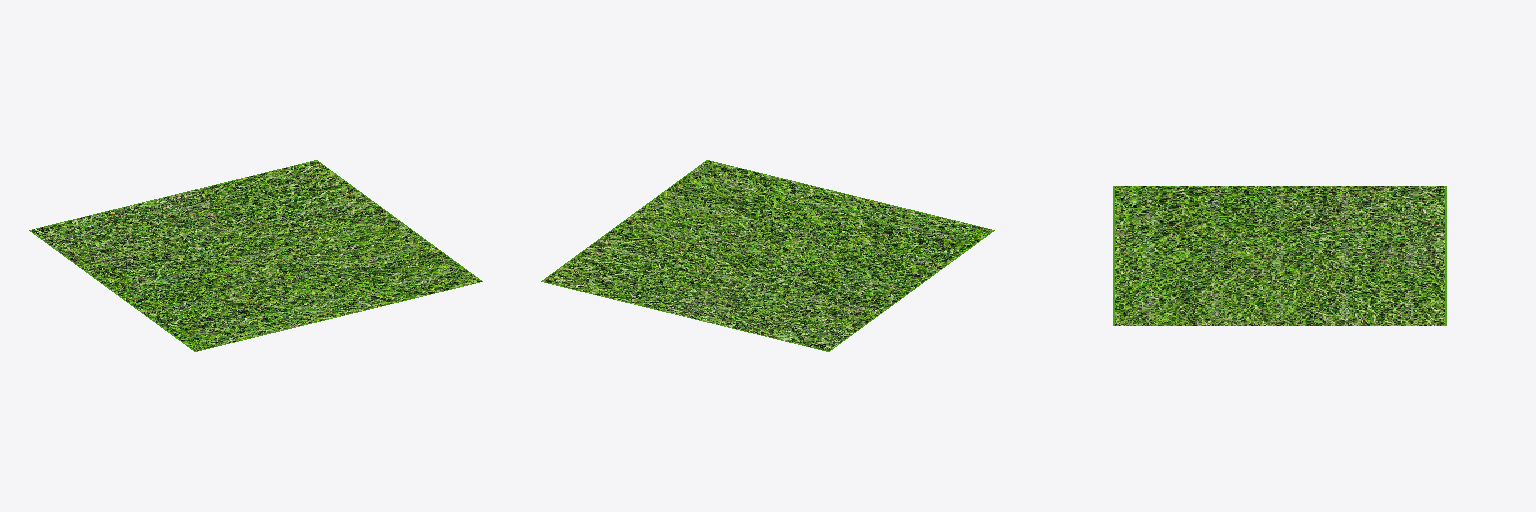
The picture shows the model from 3 angles: view 1: azimuth 30°, elevation 25°; view 2: azimuth 150°, elevation 25°; view 3: azimuth 270°, elevation 25°; orthographic projection.
Visible parts, largest first — view 1: Cube_Cube_Material; view 2: Cube_Cube_Material; view 3: Cube_Cube_Material.
Boxes of the visible parts, x1,y1,x2,y2 form: Cube_Cube_Material: [29, 160, 482, 351]; Cube_Cube_Material: [541, 160, 994, 351]; Cube_Cube_Material: [1113, 186, 1446, 325].
Size of the model in its own units: 1 by 0 by 1.
1 materials, 1 textured.